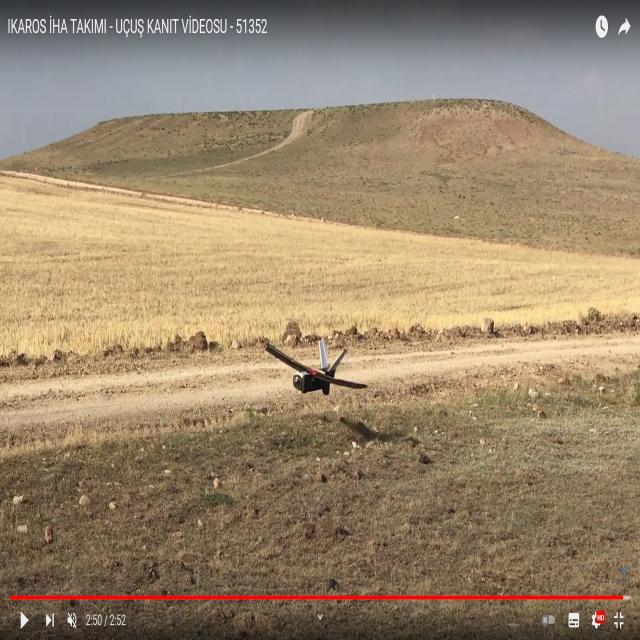iha: (300, 348, 336, 399)
